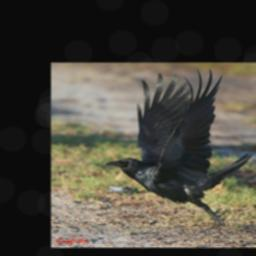Crow: (104, 67, 254, 229)
